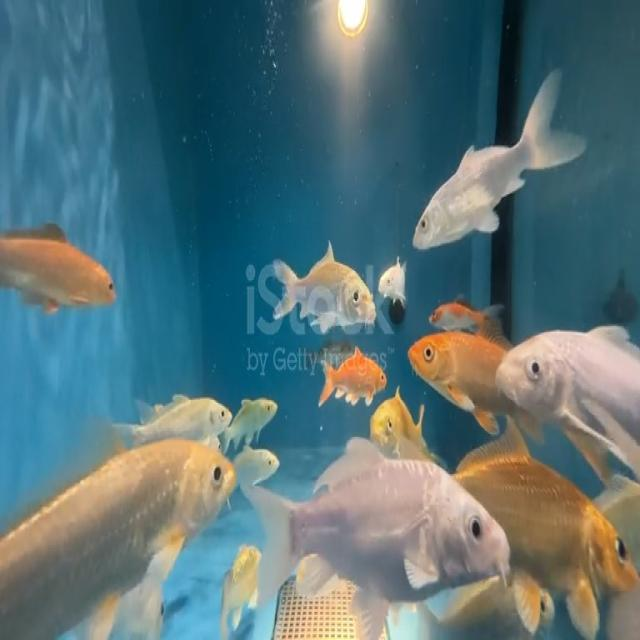fish: (248, 452, 512, 612), (44, 429, 237, 625), (408, 69, 581, 256), (470, 415, 640, 605), (496, 325, 638, 431), (263, 245, 376, 345), (1, 222, 117, 317), (406, 326, 492, 417), (140, 393, 234, 436), (367, 380, 423, 452), (314, 346, 390, 397), (223, 515, 257, 622), (232, 391, 283, 436), (425, 298, 491, 331), (380, 247, 406, 315), (235, 447, 282, 480)
